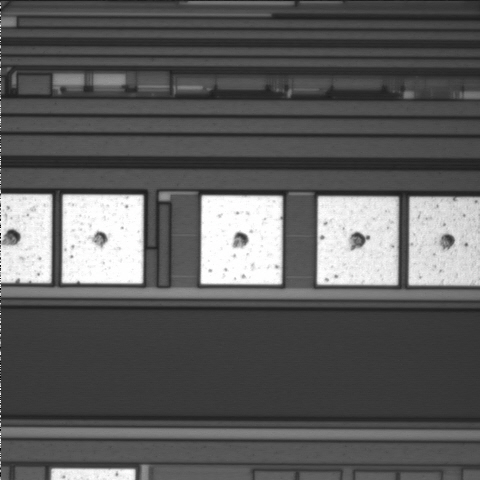pad: (201, 195, 283, 285), (62, 195, 143, 284), (317, 196, 398, 285)
